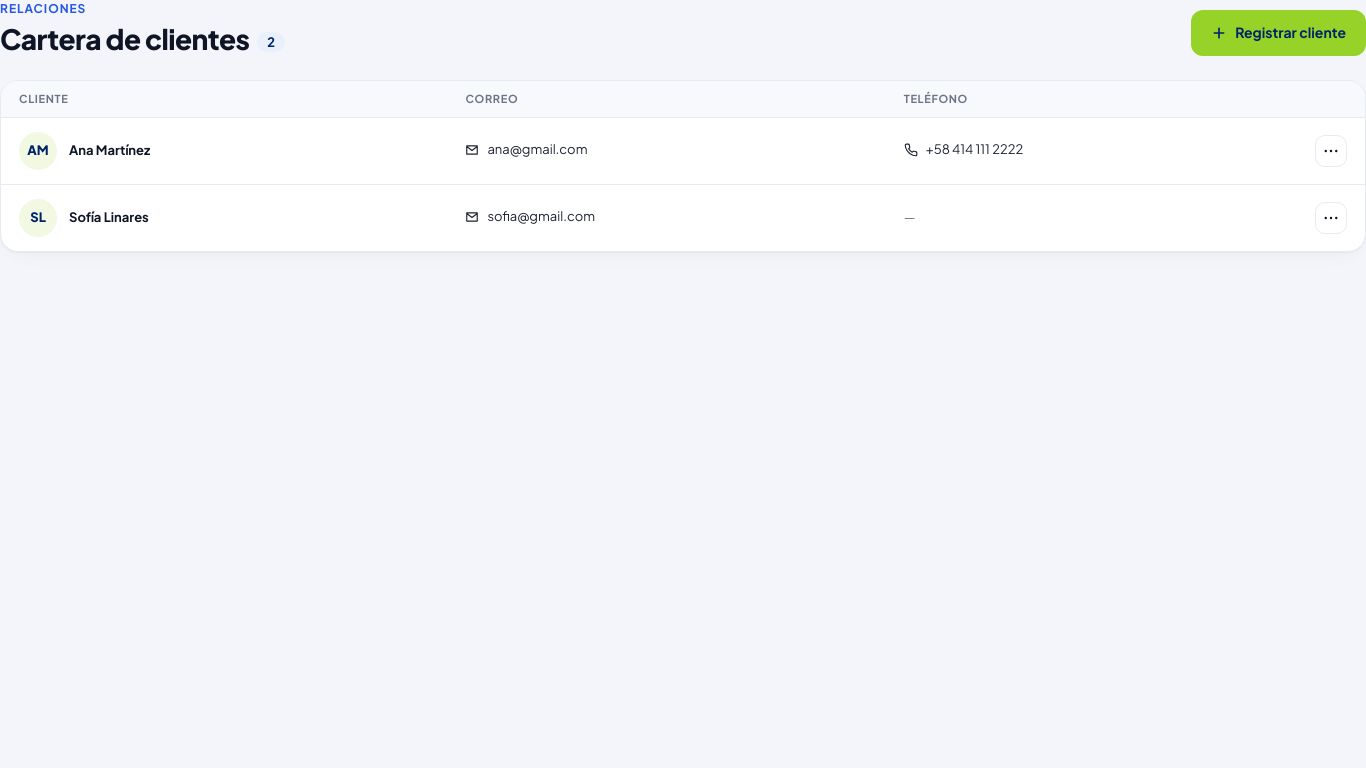
Test: quitar de la cartera pide confirmación
This screenshot has width=1366, height=768.
Click the button named "Opciones de Sofía Linares": (1331, 218) [1315, 202, 1347, 234]
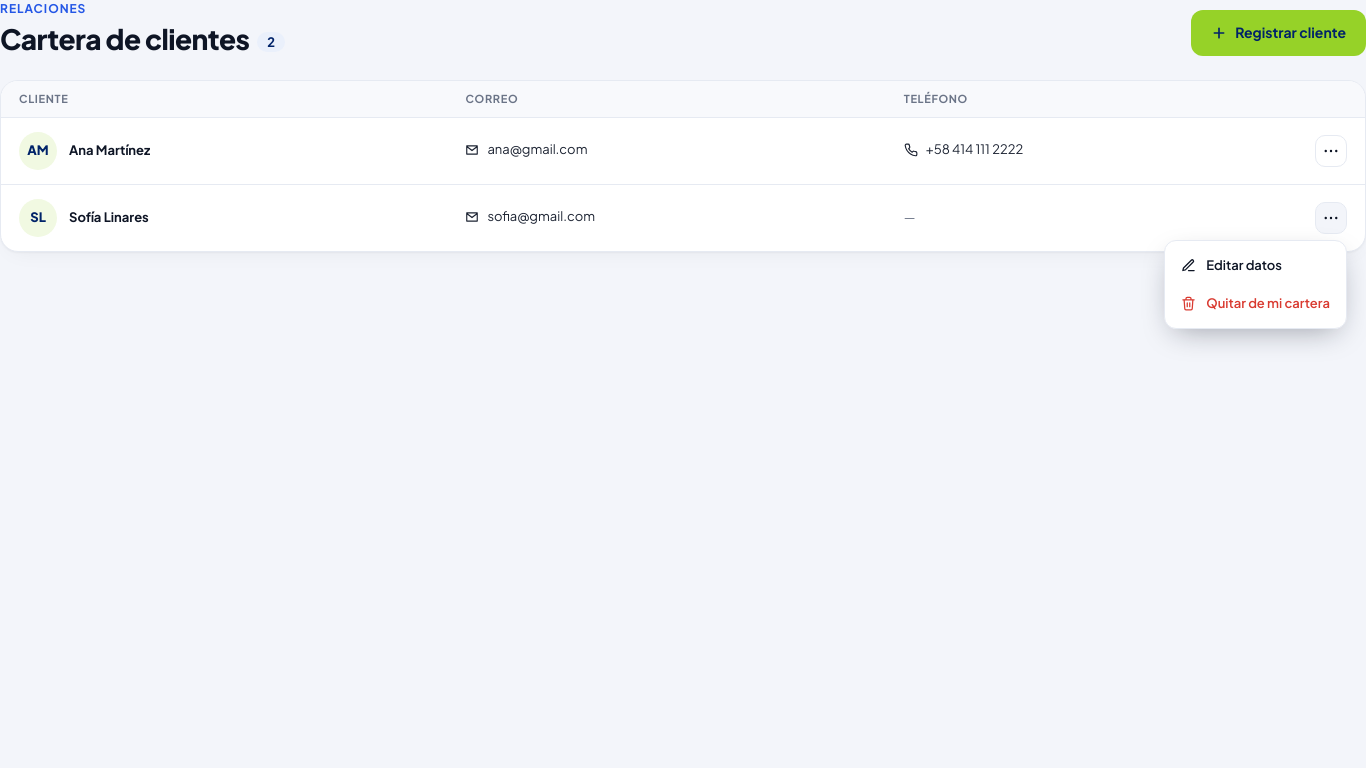
Click the menu item "Quitar de mi cartera": (1256, 303) [1171, 285, 1340, 322]
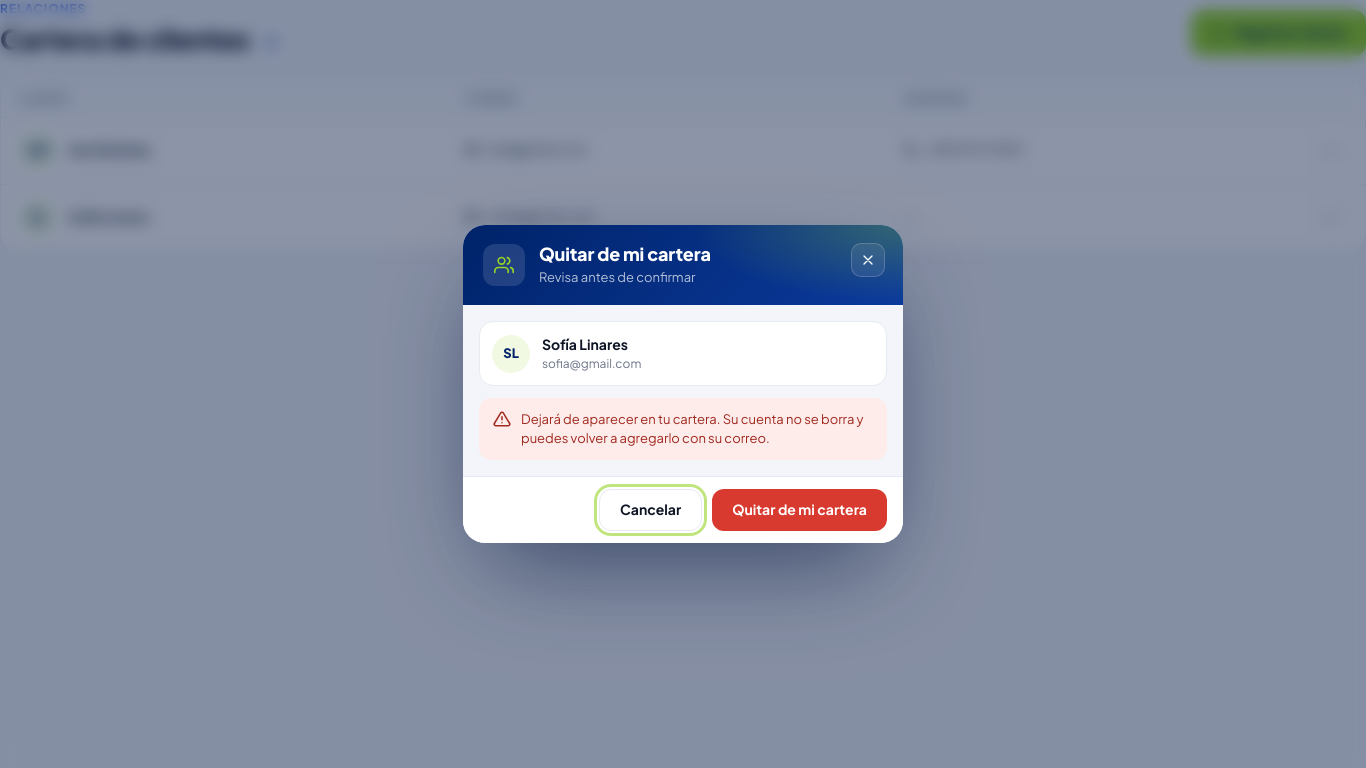
Click the button "Quitar de mi cartera": (800, 510) [712, 489, 887, 531]
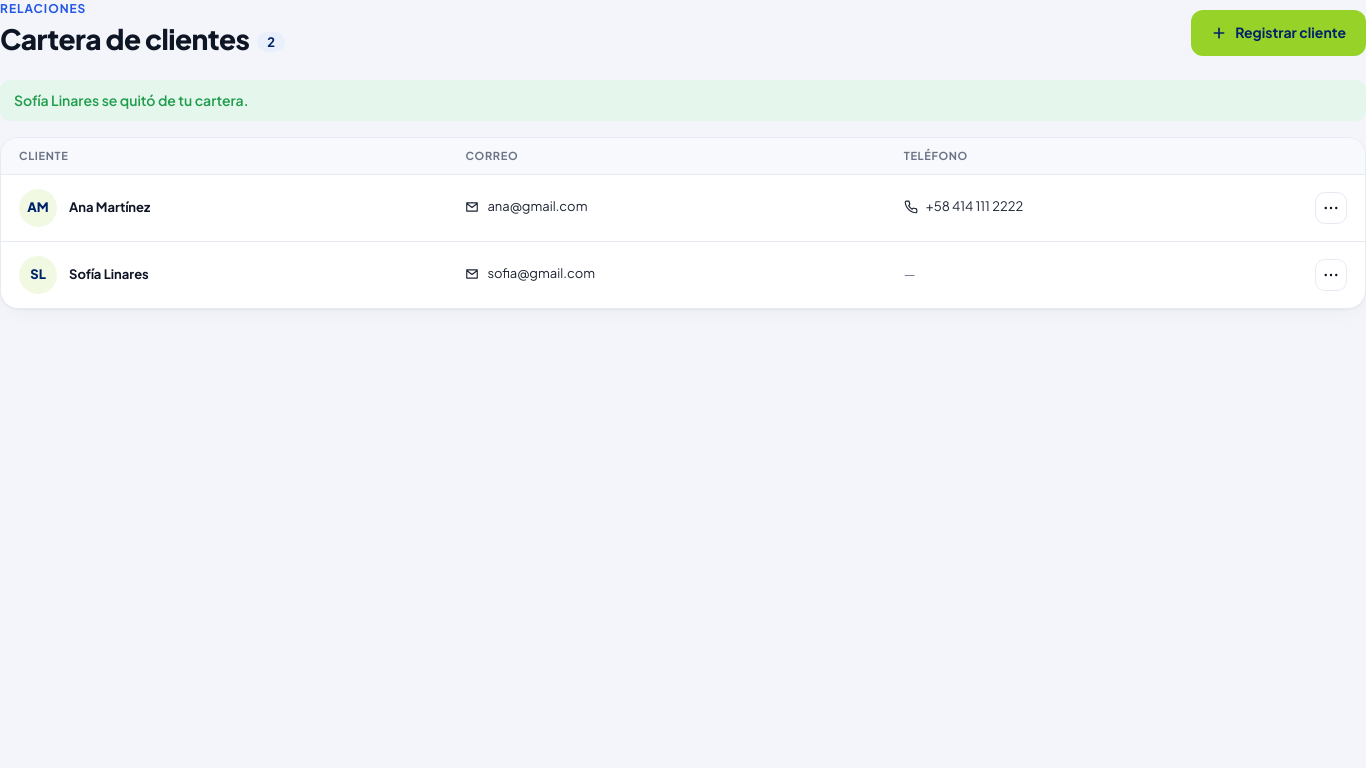
Expected: the message shows "Sofía Linares se quitó de tu cartera", [14, 91, 248, 109]
